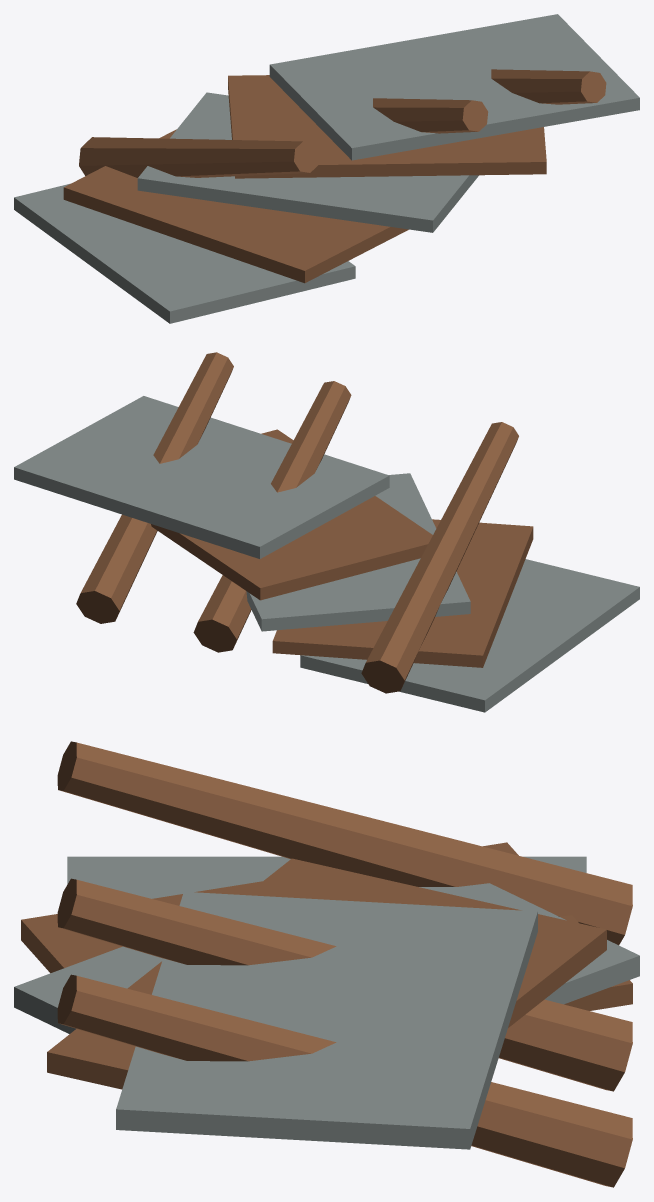
File: scrap_heap.glb
3 views of the same model, one above another, from view 1: azimuth 30°, elevation 25°; view 2: azimuth 150°, elevation 25°; view 3: azimuth 270°, elevation 25° (orthographic). The views are drawn at different scales.
Visible parts, largest first — view 1: scrap_heap_visual; view 2: scrap_heap_visual; view 3: scrap_heap_visual.
Boxes of the visible parts, x1,y1,x2,y2 form: scrap_heap_visual: (14,14,639,323); scrap_heap_visual: (14,352,639,712); scrap_heap_visual: (14,741,639,1187).
Bounding box in the file's own units: 1.51 × 0.4169 × 0.9641.
